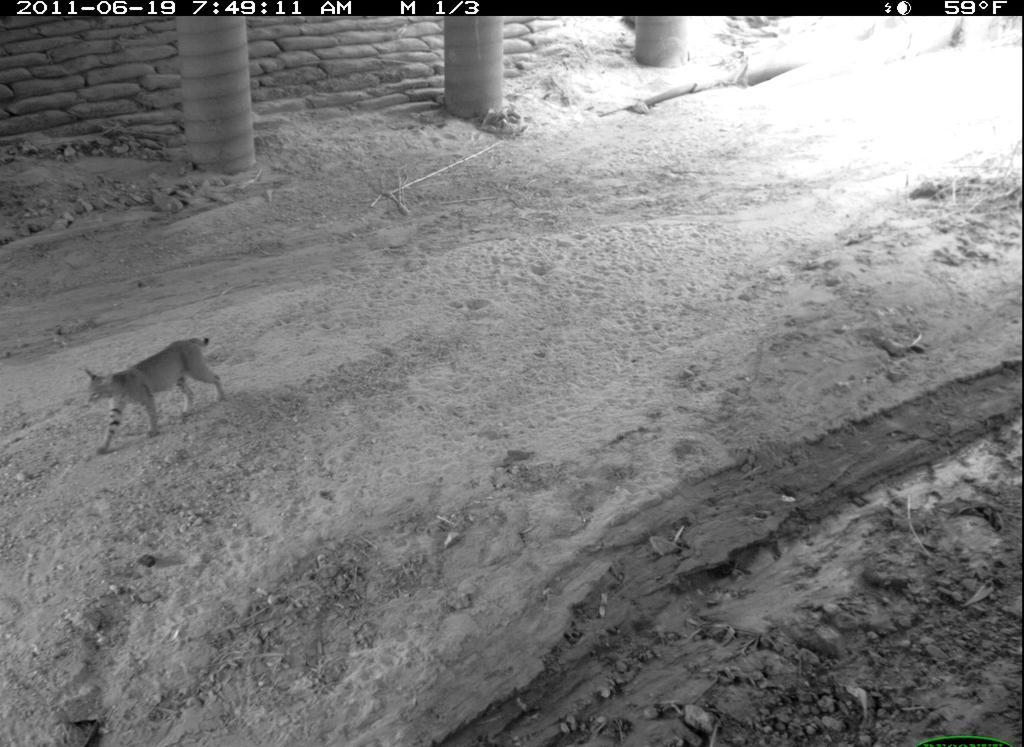bobcat: (79, 334, 237, 456)
